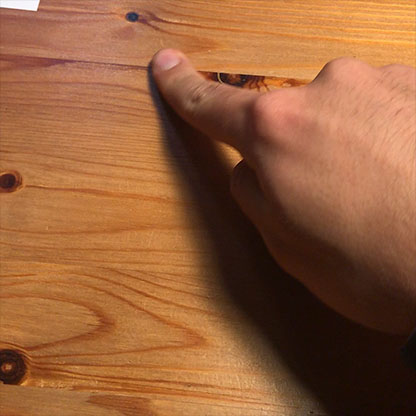fingertip: (147, 41, 193, 80)
